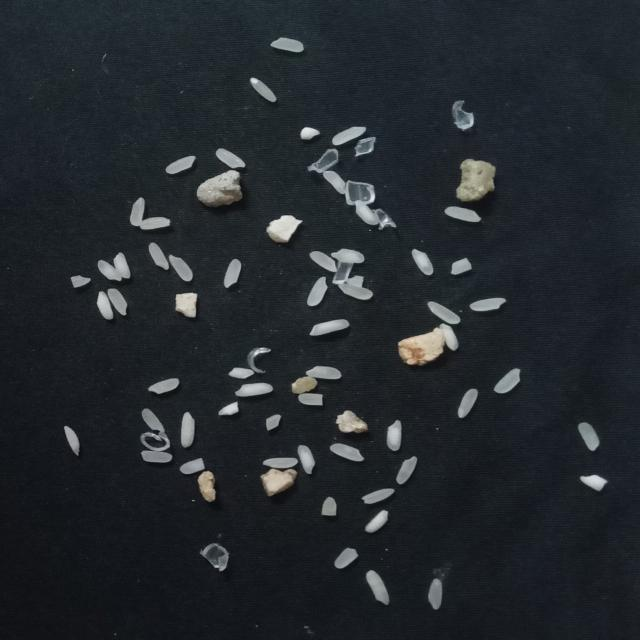Broken: (580, 474, 608, 492), (334, 548, 358, 568), (180, 458, 205, 474), (450, 257, 472, 275), (298, 393, 324, 406), (218, 401, 240, 416), (321, 496, 337, 516), (229, 366, 255, 378), (300, 126, 321, 140), (265, 414, 282, 431), (71, 275, 91, 288), (345, 275, 364, 288)
Full: (426, 301, 461, 325), (366, 570, 389, 605), (168, 254, 194, 282), (332, 125, 366, 146), (306, 276, 329, 307), (250, 77, 277, 103), (494, 368, 521, 394), (309, 319, 349, 336), (165, 154, 197, 175), (216, 147, 246, 169), (457, 388, 479, 418), (396, 455, 418, 485), (354, 200, 380, 225), (444, 205, 482, 222), (330, 443, 364, 462), (578, 422, 600, 451), (148, 242, 170, 270), (107, 288, 129, 316), (338, 283, 374, 300), (365, 509, 389, 534), (439, 322, 459, 352), (310, 251, 338, 272), (270, 36, 304, 53), (362, 488, 396, 505), (323, 170, 347, 194), (180, 412, 196, 448), (142, 408, 165, 433), (297, 444, 316, 474), (235, 382, 273, 397), (412, 248, 433, 275), (223, 259, 242, 288), (468, 298, 507, 312), (306, 365, 342, 380), (330, 248, 365, 263), (97, 260, 122, 281), (96, 291, 114, 320), (113, 251, 131, 279), (148, 378, 179, 394), (64, 425, 80, 456), (428, 578, 443, 610), (387, 419, 402, 451), (139, 217, 171, 230), (130, 197, 144, 226), (140, 451, 173, 463), (262, 458, 299, 468)
